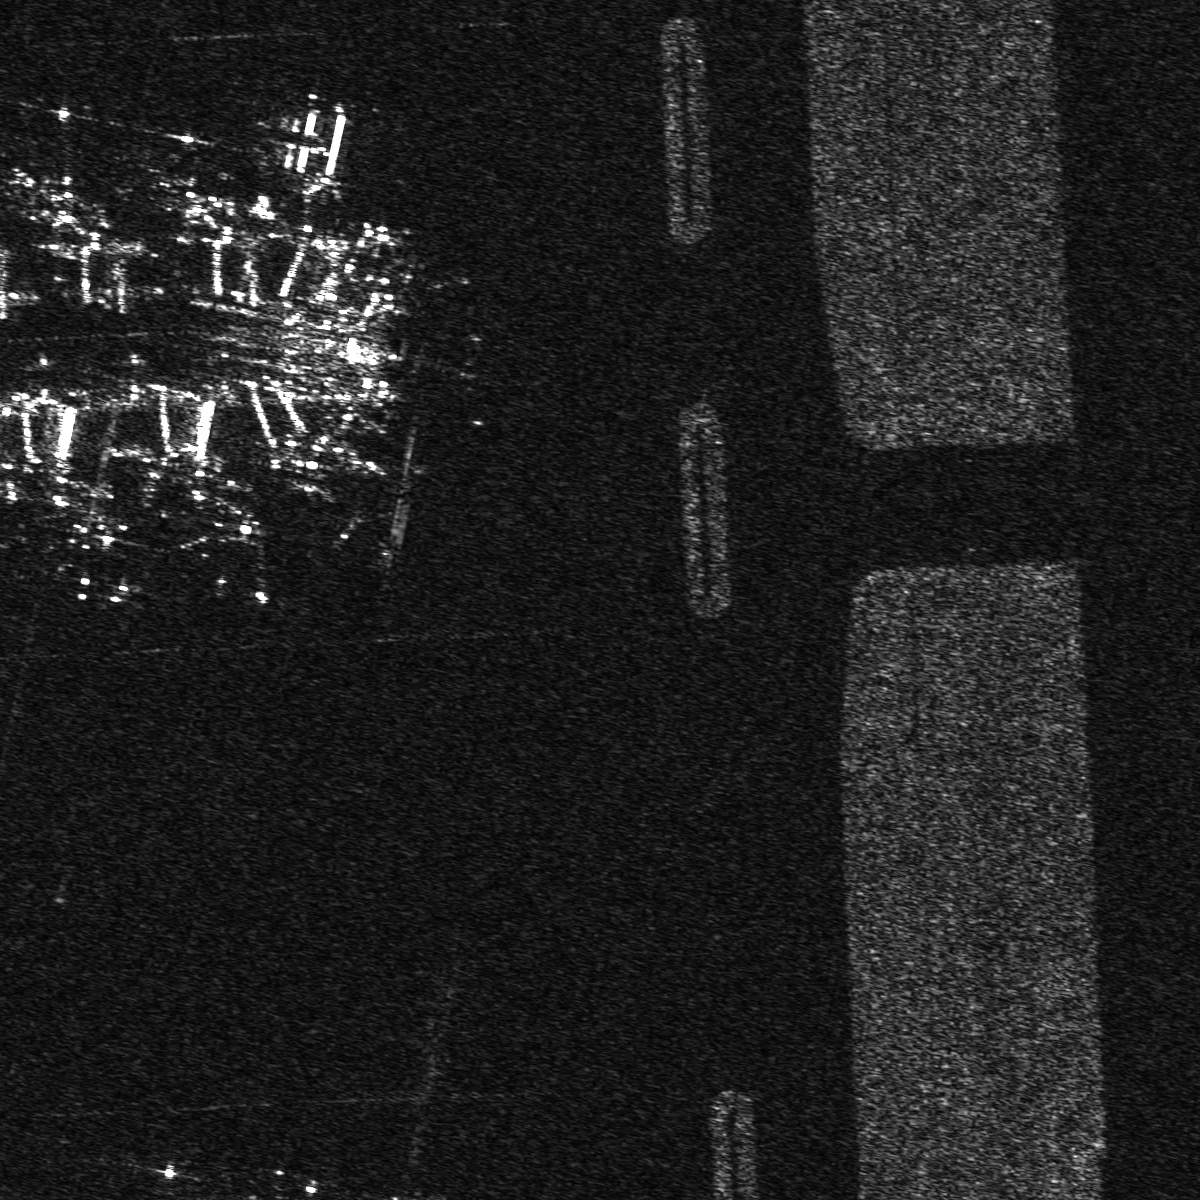A320/321: (1, 91, 96, 205), (46, 516, 152, 613), (127, 116, 231, 205), (320, 492, 409, 575)
Boeing737: (175, 507, 290, 602)
